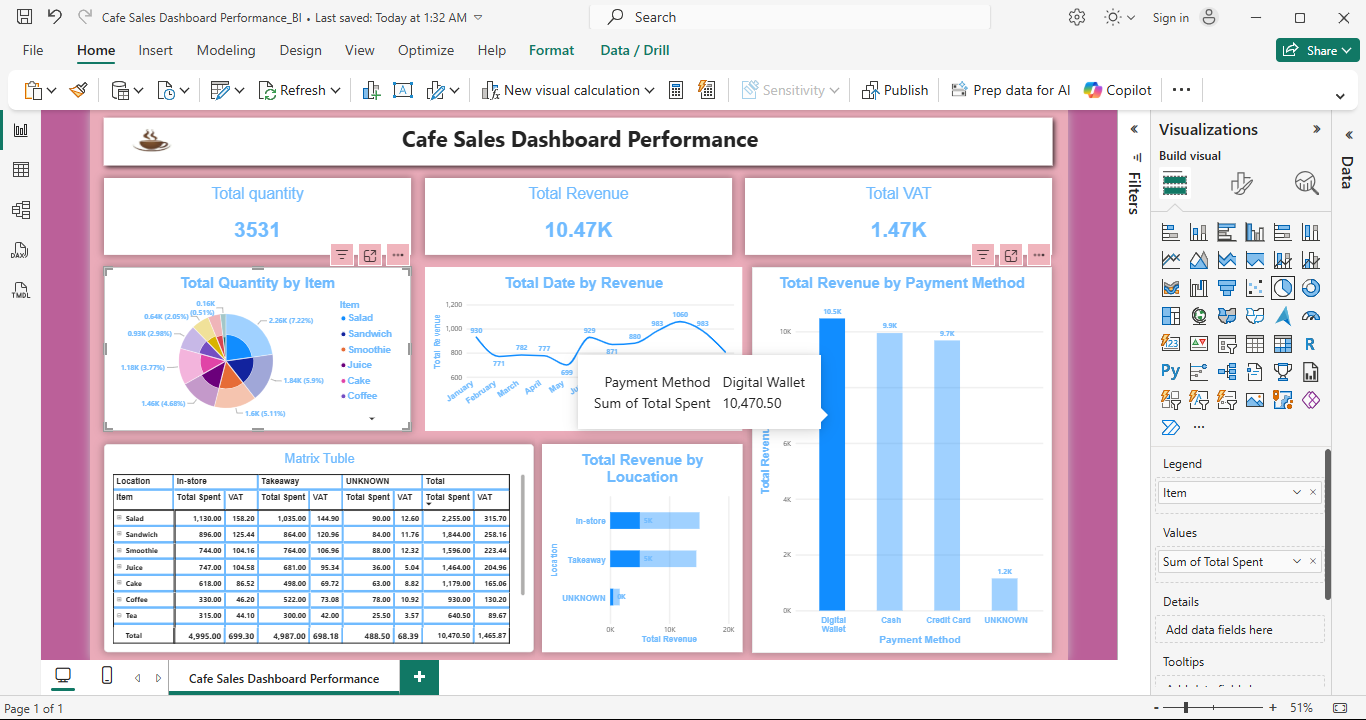

The dashboard page shown, as its layout file describes it:
{"tool":"powerbi","page":{"name":"Cafe Sales Dashboard Performance ","canvas":[1920,1080],"ordinal":0},"visuals":[{"type":"pieChart","title":"Total  Quantity by Item","fields":{"Category":["Cafe_sales_clean.Item"],"Y":["Sum(Cafe_sales_clean.Total Spent)"]},"box":[26.8,307.6,602.8,322.1],"z":0},{"type":"shape","box":[12.4,0,1893.2,123.9],"z":1000},{"type":"textbox","box":[46.3,15.4,1842.6,92.6],"z":2000},{"type":"card","title":"Total quantity","fields":{"Values":["Sum(Cafe_sales_clean.Quantity)"]},"box":[26.8,134.2,602.8,150.7],"z":3000},{"type":"card","title":"Total VAT","fields":{"Values":["Cafe_sales_clean.VAT"]},"box":[1286.2,134.2,602.8,150.7],"z":4000},{"type":"card","title":"Total Revenue","fields":{"Values":["Sum(Cafe_sales_clean.Total Spent)"]},"box":[658.6,134.2,602.8,150.7],"z":5000},{"type":"lineChart","title":"Total  Date by Revenue","fields":{"Category":["Cafe_sales_clean.Transaction Date.Variation.Date Hierarchy.Year","Cafe_sales_clean.Transaction Date.Variation.Date Hierarchy.Quarter","Cafe_sales_clean.Transaction Date.Variation.Date Hierarchy.Month"],"Y":["Sum(Cafe_sales_clean.Total Spent)"]},"box":[658.6,307.6,623.5,322.1],"z":6000},{"type":"pivotTable","title":"Matrix Tuble","fields":{"Columns":["Cafe_sales_clean.Location"],"Rows":["Cafe_sales_clean.Item","Cafe_sales_clean.Payment Method"],"Values":["Sum(Cafe_sales_clean.Total Spent)","Cafe_sales_clean.VAT"]},"box":[26.8,656.5,844.4,408.8],"z":7000},{"type":"columnChart","title":"Total Revenue by Payment Method","fields":{"Category":["Cafe_sales_clean.Payment Method"],"Y":["Sum(Cafe_sales_clean.Total Spent)"]},"box":[1300.6,307.6,588.4,757.7],"z":8000},{"type":"barChart","title":"Total Revenue by  Loucation","fields":{"Category":["Cafe_sales_clean.Location"],"Y":["Sum(Cafe_sales_clean.Total Spent)"]},"box":[887.7,656.5,394.3,408.8],"z":8001},{"type":"image","box":[46.3,15.4,147.7,90.4],"z":8002}]}

Visuals, with their boxes on the page's 1920x1080 design canvas (x1, y1, x2, y2). These are canvas units, not pixel positions in the 1366x720 screenshot, which may show the page scaled, cropped or inside an application window:
"Total  Quantity by Item" pieChart: <bbox>27, 308, 630, 630</bbox>
shape: <bbox>12, 0, 1906, 124</bbox>
textbox: <bbox>46, 15, 1889, 108</bbox>
"Total quantity" card: <bbox>27, 134, 630, 285</bbox>
"Total VAT" card: <bbox>1286, 134, 1889, 285</bbox>
"Total Revenue" card: <bbox>659, 134, 1261, 285</bbox>
"Total  Date by Revenue" lineChart: <bbox>659, 308, 1282, 630</bbox>
"Matrix Tuble" pivotTable: <bbox>27, 656, 871, 1065</bbox>
"Total Revenue by Payment Method" columnChart: <bbox>1301, 308, 1889, 1065</bbox>
"Total Revenue by  Loucation" barChart: <bbox>888, 656, 1282, 1065</bbox>
image: <bbox>46, 15, 194, 106</bbox>
